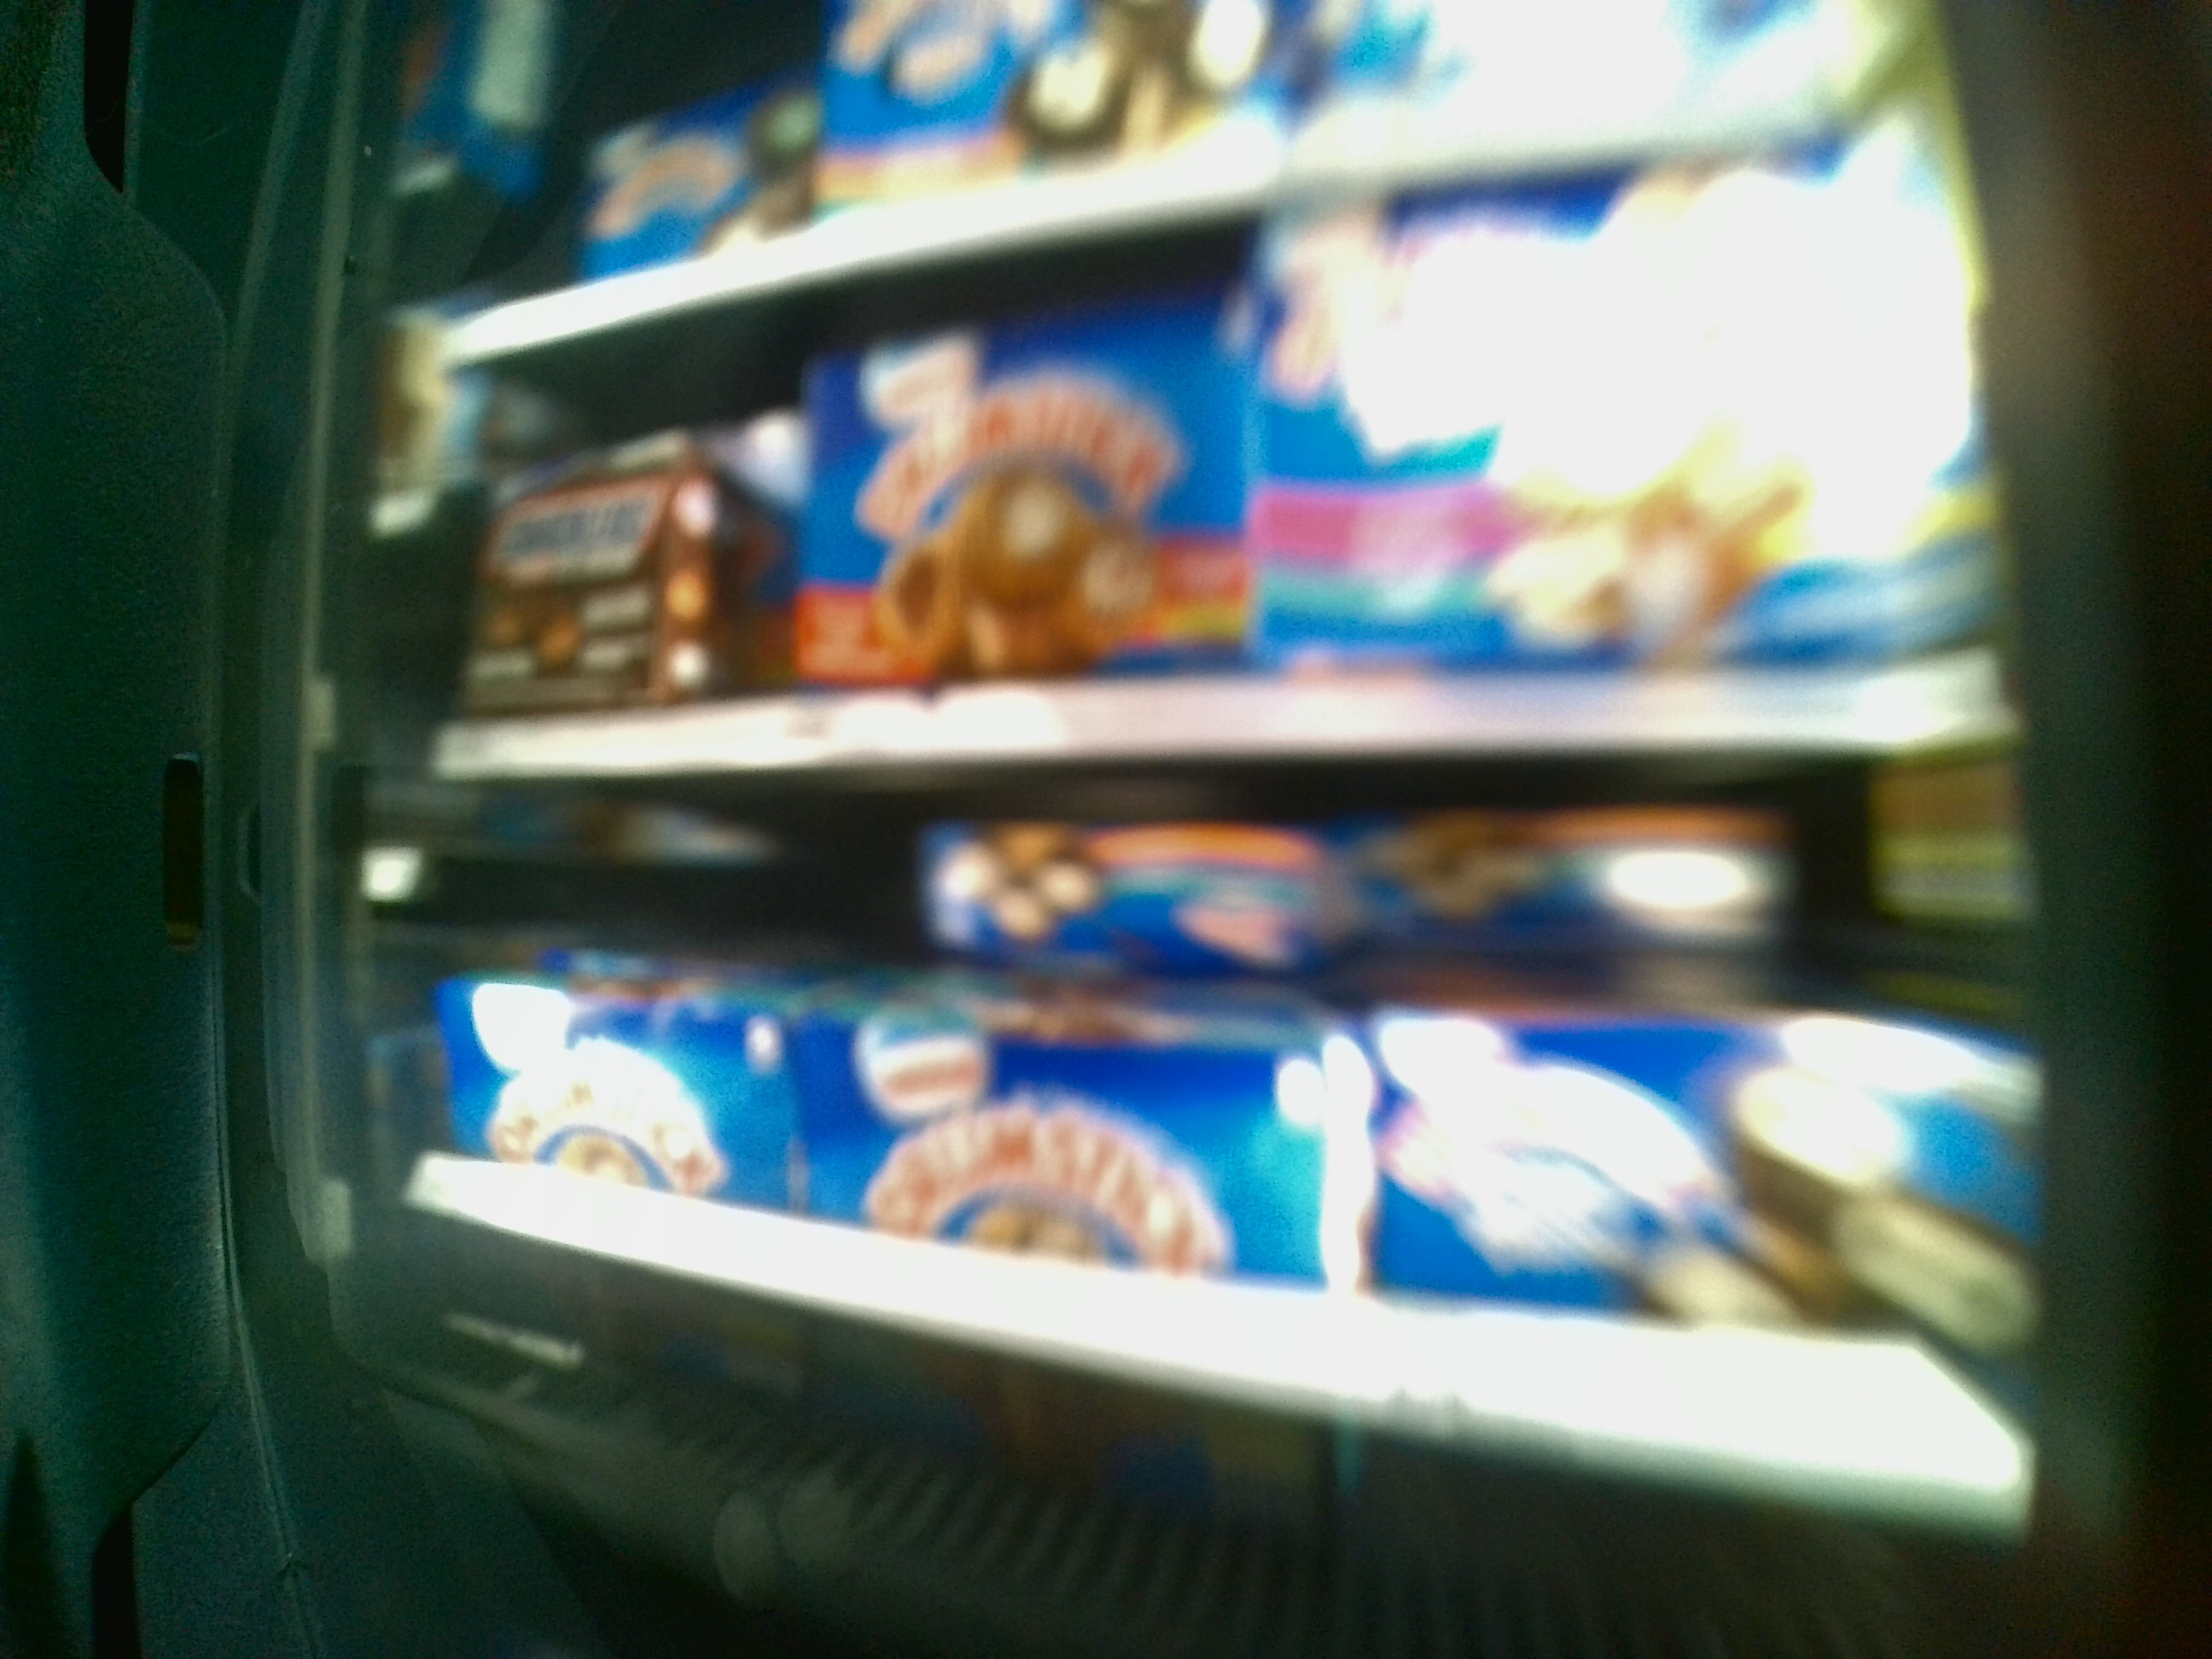shelf: (418, 770, 2029, 1589), (441, 227, 2029, 767)
